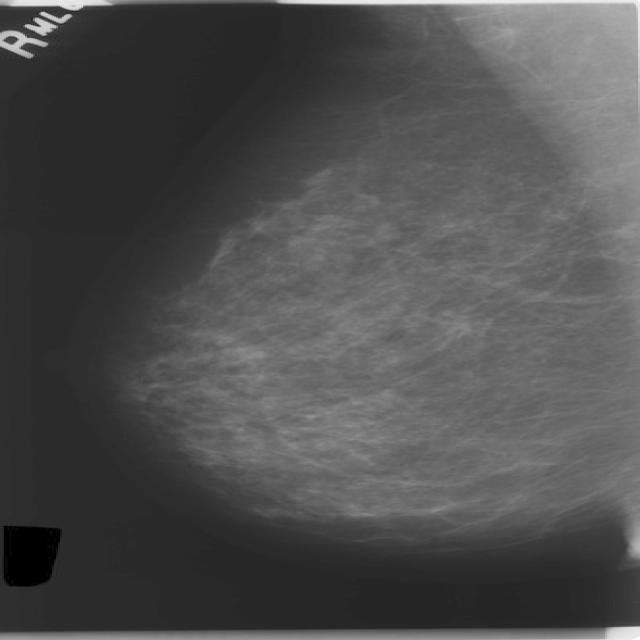tumour: (433, 310, 482, 342)
